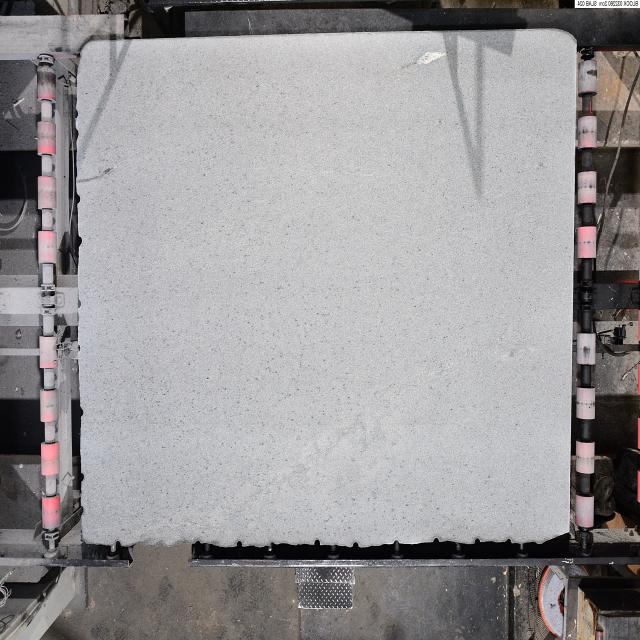chapa: (78, 30, 576, 546)
veio: (112, 538, 124, 552), (474, 536, 482, 547)
